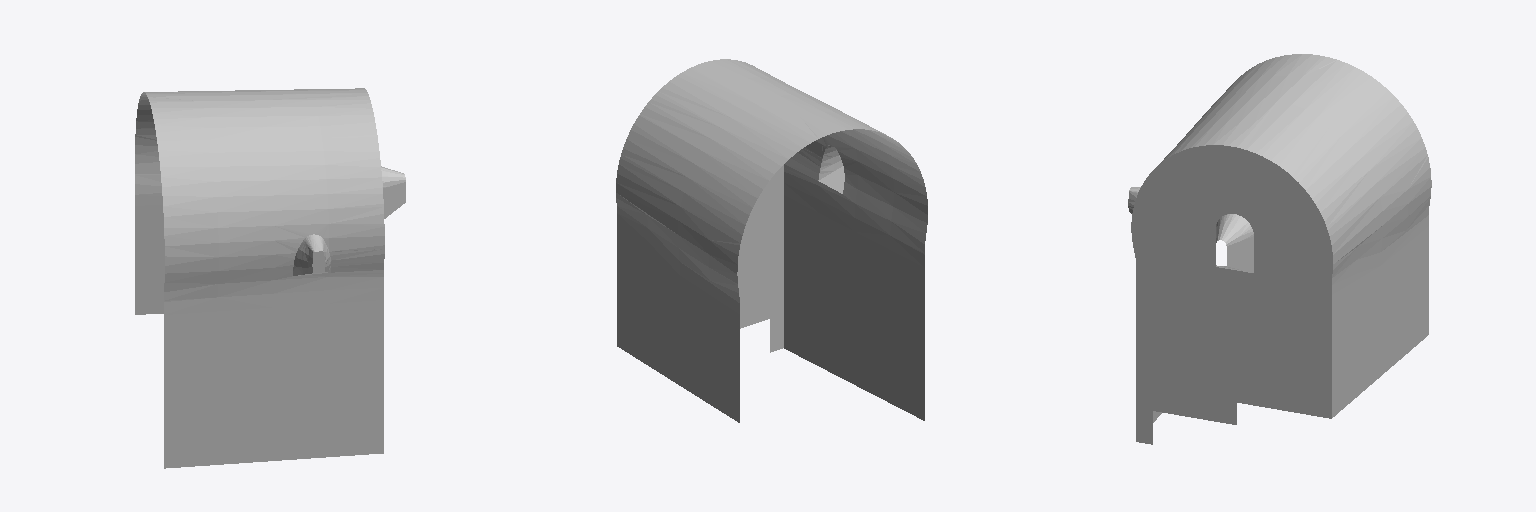
The model's file is Pedret_XIII_absC.obj.
3 views of the same model, side by side, from view 1: azimuth 30°, elevation 25°; view 2: azimuth 150°, elevation 25°; view 3: azimuth 270°, elevation 25° (orthographic).
Visible parts, largest first — view 1: PEDRET_XIII-baked-absC; view 2: PEDRET_XIII-baked-absC; view 3: PEDRET_XIII-baked-absC.
Part boxes in pixels (bbox=[...]): PEDRET_XIII-baked-absC: bbox=[135, 88, 405, 468]; PEDRET_XIII-baked-absC: bbox=[616, 59, 927, 422]; PEDRET_XIII-baked-absC: bbox=[1128, 54, 1431, 444].
Bounding box in the file's own units: 4.99 × 6.02 × 5.22.